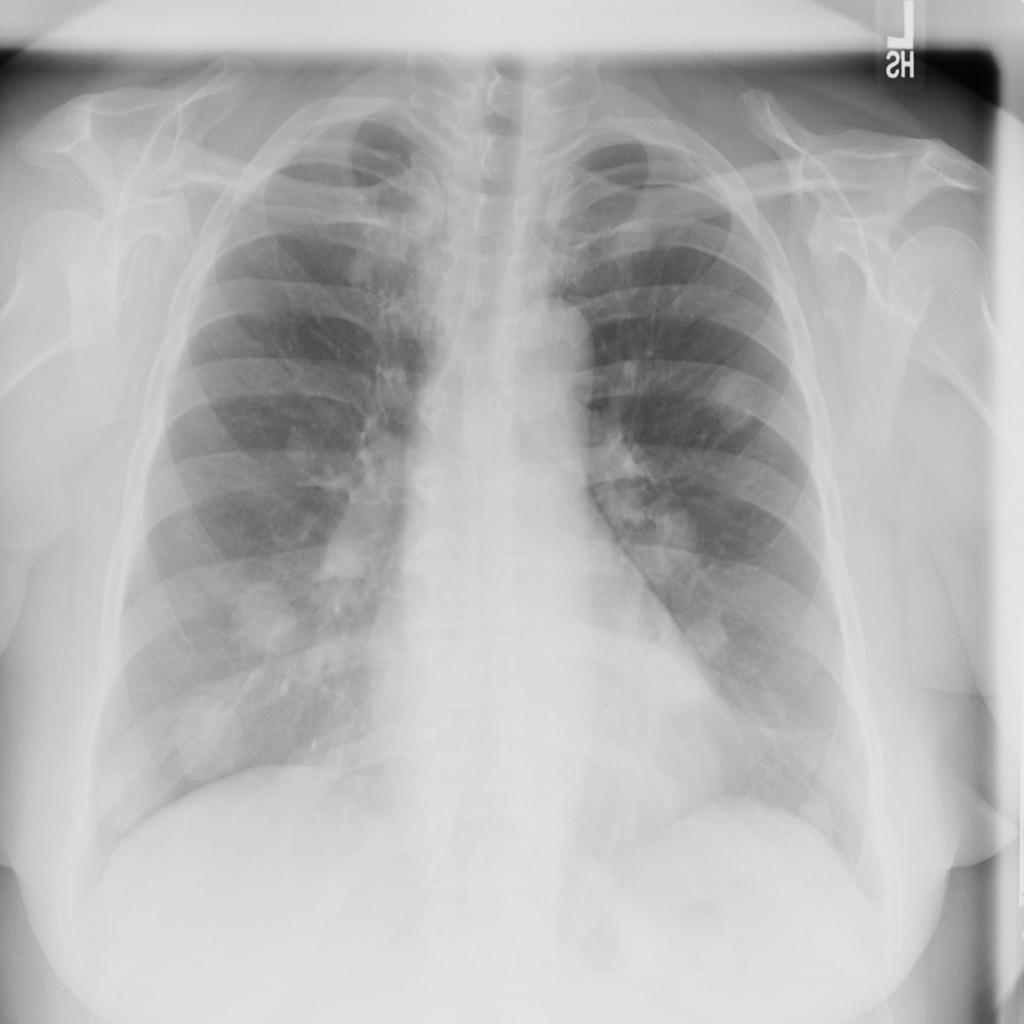nodule: (163, 675, 258, 790), (81, 738, 180, 847), (220, 565, 314, 675), (699, 356, 771, 443), (671, 600, 740, 676), (783, 771, 848, 850), (268, 409, 330, 485)
